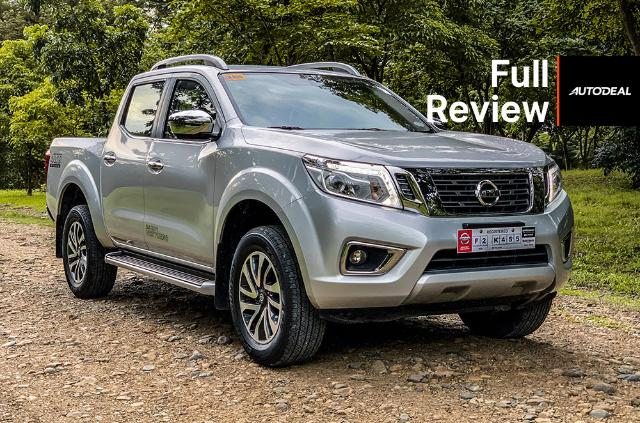pickup-truck: (44, 56, 576, 370)
